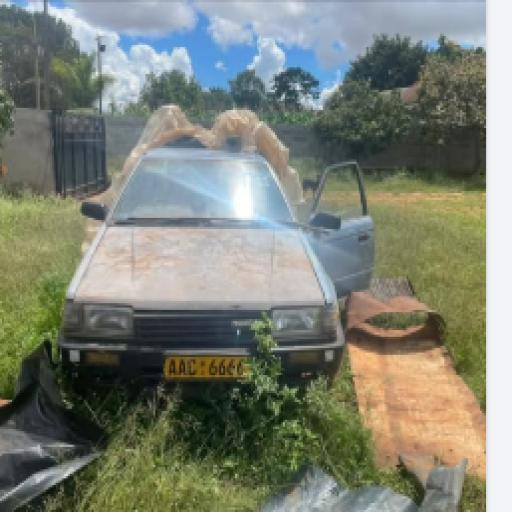number-plates: (159, 353, 256, 380)
